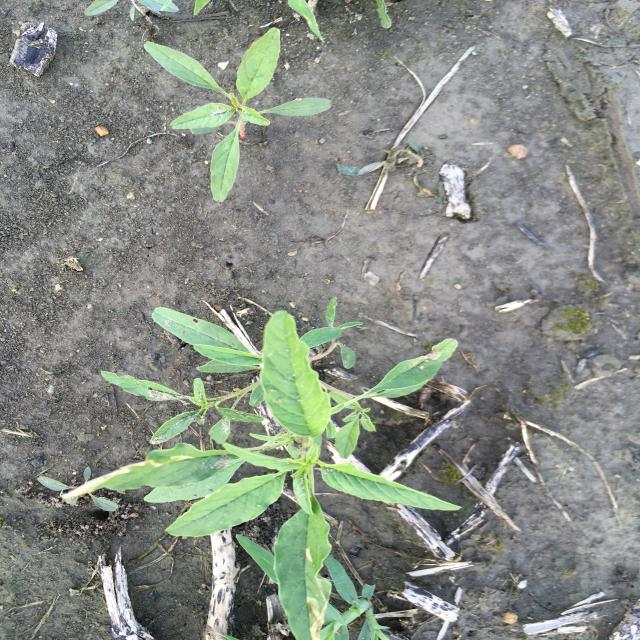Waterhemp: (90, 294, 464, 636), (142, 27, 335, 205)
